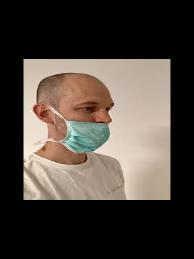mask_weared_incorrect: (64, 88, 115, 156)
